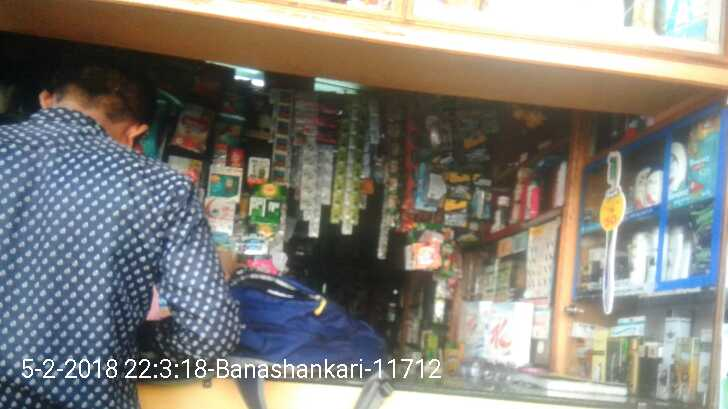pharmacy: (684, 113, 719, 191)
